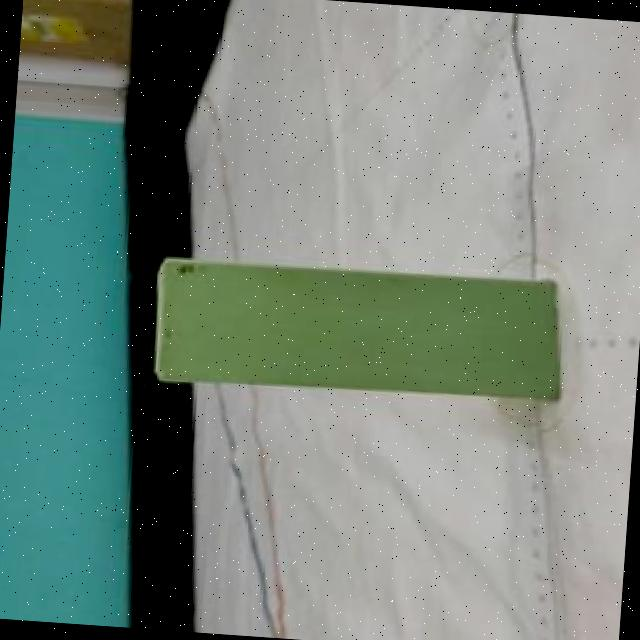greenbox: (148, 256, 570, 407)
